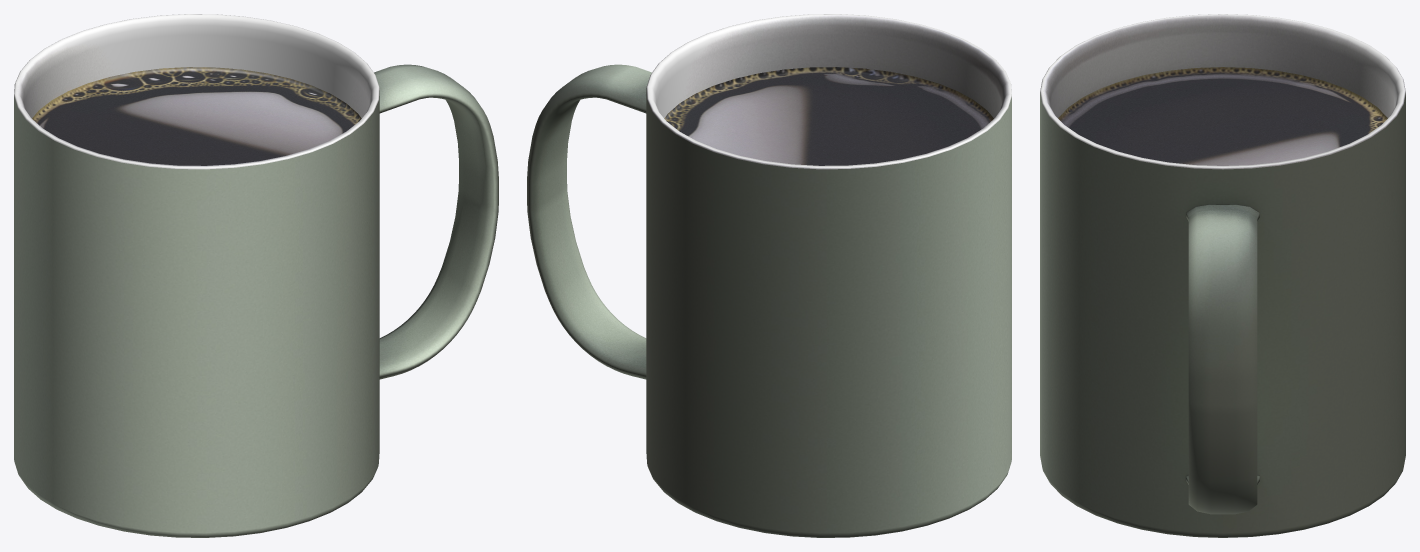
File: coffee_cup.fbx
3 views of the same model, side by side, from view 1: azimuth 30°, elevation 25°; view 2: azimuth 150°, elevation 25°; view 3: azimuth 270°, elevation 25° (orthographic).
Visible parts, largest first — view 1: coffee1; view 2: coffee1; view 3: coffee1.
Boxes of the visible parts, bbox=[...] form: coffee1: bbox=[14, 14, 498, 537]; coffee1: bbox=[527, 14, 1011, 537]; coffee1: bbox=[1040, 14, 1405, 537].
Size of the model in its own units: 1.14 by 0.8977 by 0.8.
1 material, 1 textured.
